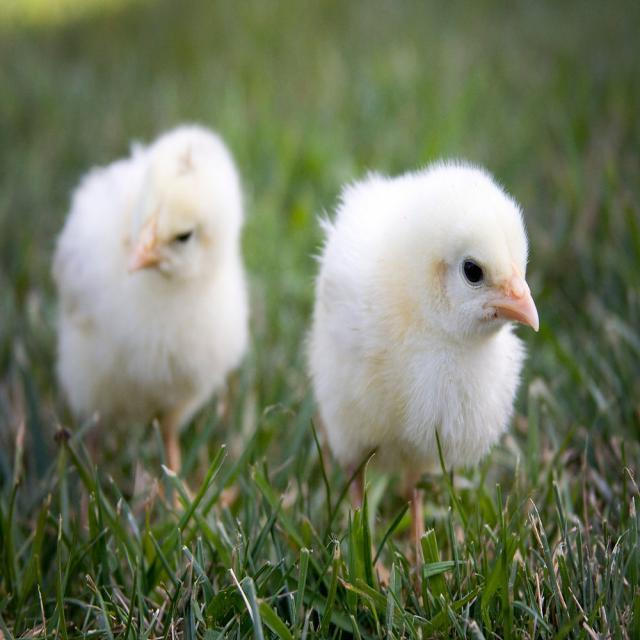poussin: (304, 158, 540, 542), (50, 123, 254, 490)
